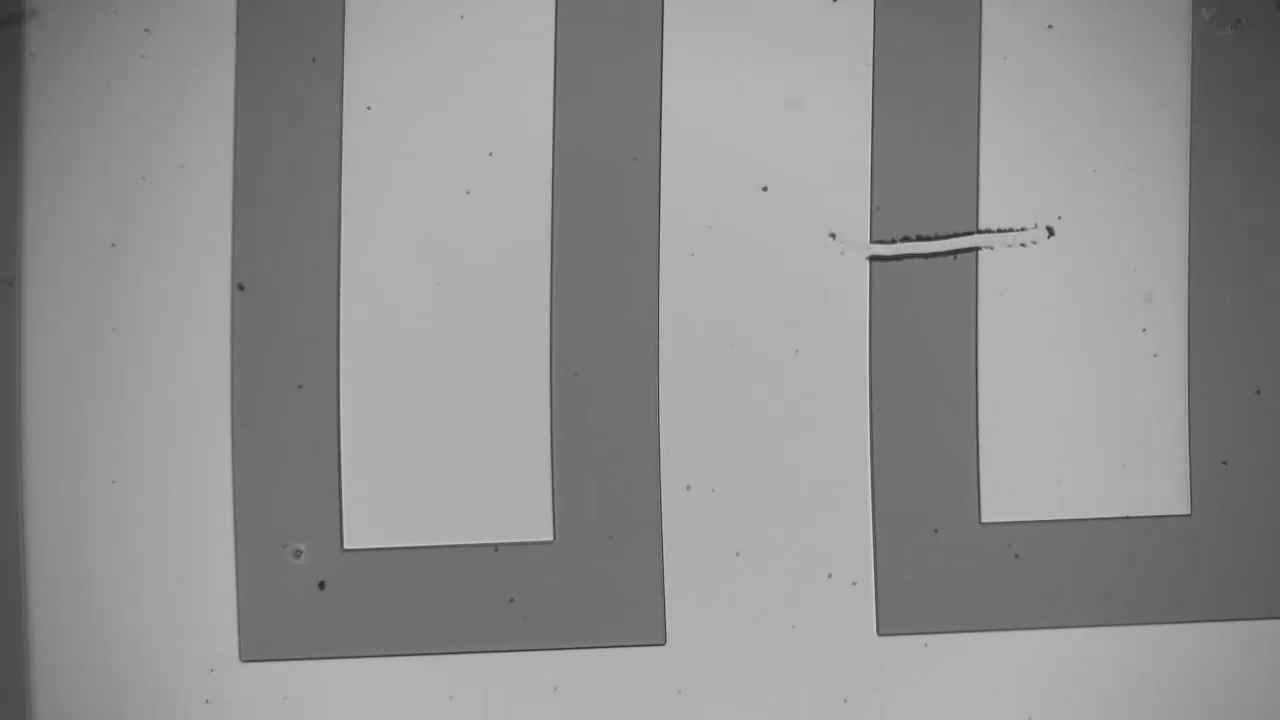Short_circuit: (845, 211, 1015, 274)
